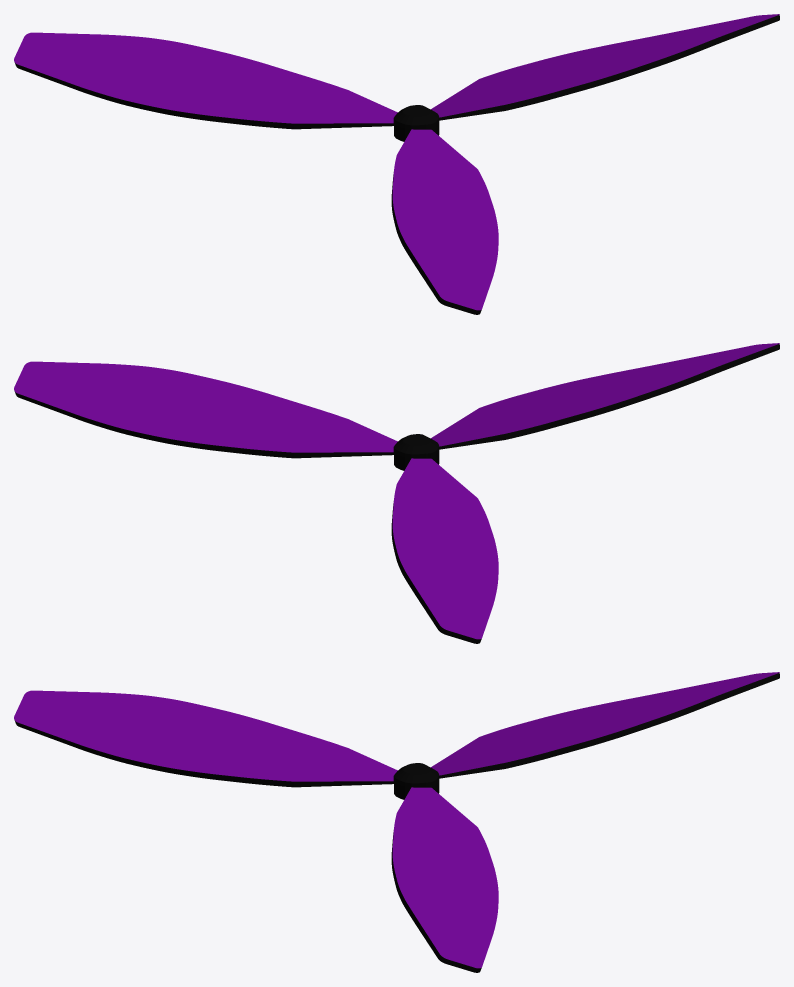
File: BladeLevel2.fbx
3 renders of one model, top to bottom at view 1: azimuth 30°, elevation 25°; view 2: azimuth 150°, elevation 25°; view 3: azimuth 270°, elevation 25°, orthographic.
Visible parts, largest first — view 1: BladeLevel2; view 2: BladeLevel2; view 3: BladeLevel2.
Part boxes in pixels (x1,y1,x2,y2): BladeLevel2: (14,14,779,314); BladeLevel2: (14,343,779,643); BladeLevel2: (14,672,779,972).
Size of the model in its own units: 121 by 5.53 by 132.
